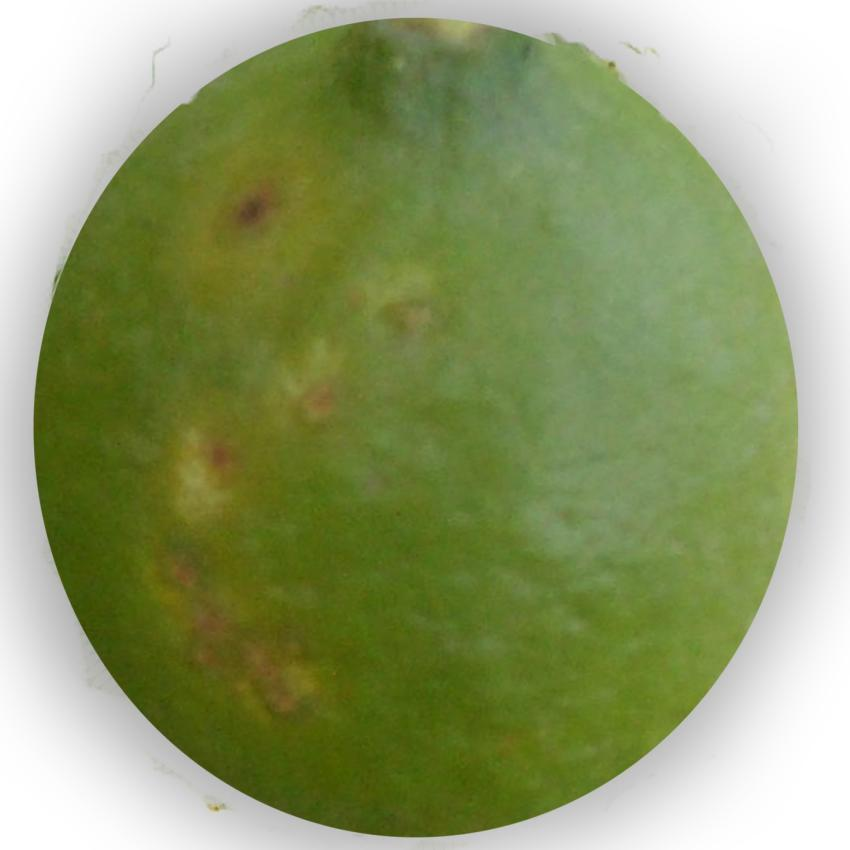Mal estado: (29, 12, 813, 846)
